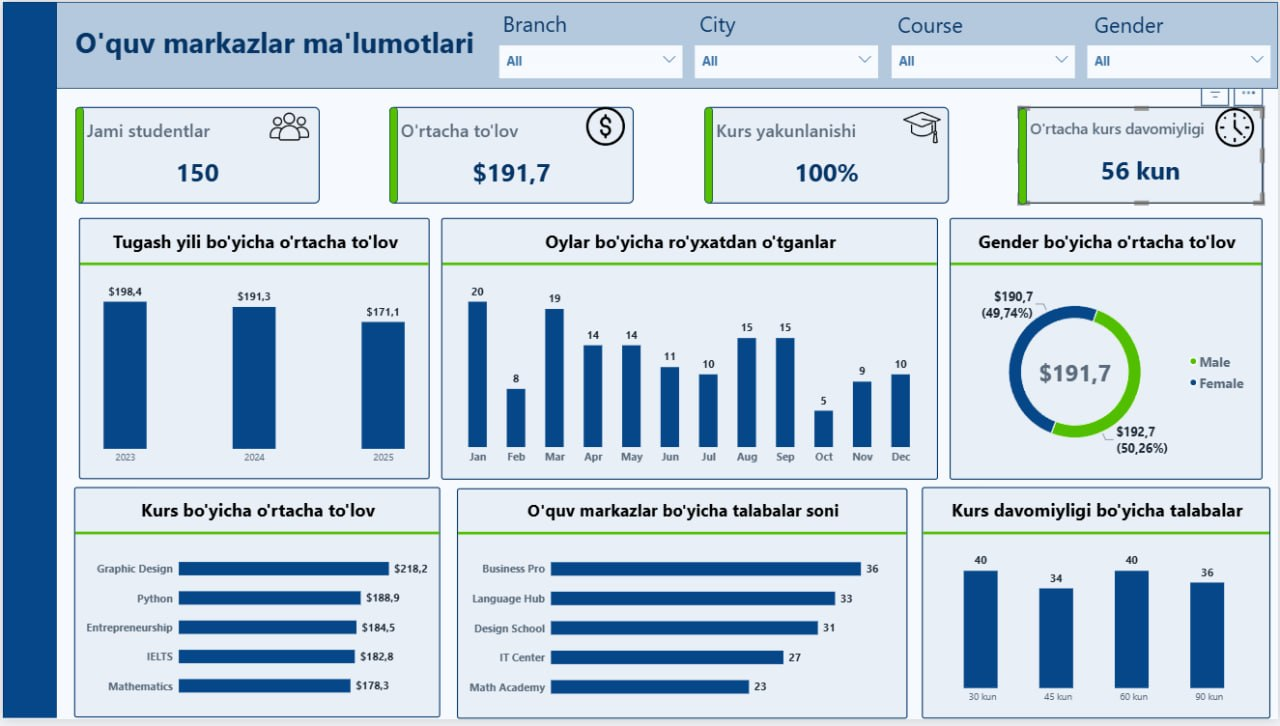

This screenshot's page, from the dashboard's own definition file:
{"tool":"powerbi","page":{"name":"Page 1","canvas":[1920,1080],"ordinal":0},"visuals":[{"type":"card","title":"Kurs yakunlanishi ","fields":{"Values":["Avg(O'quv markazlar.Completion %)"]},"box":[1055.9,158.3,368,145.4],"z":0},{"type":"card","title":"Jami studentlar","fields":{"Values":["O'quv markazlar.Students Count"]},"box":[108.6,158.3,368.1,145.4],"z":1000},{"type":"card","title":"O''rtacha to''lov","fields":{"Values":["O'quv markazlar.Avg Course Fee"]},"box":[582.2,158.3,368.1,145.4],"z":2000},{"type":"card","title":"O''rtacha kurs davomiyligi ","fields":{"Values":["Avg(O'quv markazlar.Course Days)"]},"box":[1529.5,158.3,368.1,145.4],"z":3000},{"type":"columnChart","title":"Tugash yili bo''yicha o''rtacha to''lov","fields":{"Category":["O'quv markazlar.End Year"],"Y":["O'quv markazlar.Avg Course Fee"]},"box":[115.1,326.2,528.2,393.9],"z":4000},{"type":"shape","box":[80.2,0,1840.1,130.8],"z":5000},{"type":"textbox","box":[108.6,31.3,612.9,69.9],"z":8000},{"type":"slicer","title":"Branch","fields":{"Values":["O'quv markazlar.Branch"]},"box":[747.3,65.5,276.1,49.7],"z":9000},{"type":"textbox","box":[752.8,11,136.2,55.2],"z":10000},{"type":"slicer","title":"Branch","fields":{"Values":["O'quv markazlar.City"]},"box":[1042.4,66.3,276.1,49.7],"z":11000},{"type":"slicer","title":"Branch","fields":{"Values":["O'quv markazlar.Gender"]},"box":[1632.7,65.5,276.1,49.7],"z":12000},{"type":"slicer","title":"Branch","fields":{"Values":["O'quv markazlar.Completion %"]},"box":[1337.6,65.5,276.1,49.7],"z":13000},{"type":"textbox","box":[1347.2,12.9,119.6,60.7],"z":14000},{"type":"textbox","box":[1643.6,12.9,138,60.7],"z":15000},{"type":"textbox","box":[1049.1,11,119.6,60.7],"z":16000},{"type":"shape","box":[1056.4,158.3,12.9,145.4],"z":17000},{"type":"shape","box":[1529.5,160.1,12.9,145.4],"z":18000},{"type":"shape","box":[108.6,158.3,12.9,145.4],"z":19000},{"type":"shape","box":[581.6,158.3,12.9,145.4],"z":20000},{"type":"shape","box":[0,0,81,1078.5],"z":21000},{"type":"image","box":[388.3,158.3,84.7,58.9],"z":22000},{"type":"image","box":[865,158.3,84,58],"z":23000},{"type":"image","box":[1341.7,160.1,84,58],"z":24000},{"type":"image","box":[1812.9,160.1,84,58],"z":25000},{"type":"donutChart","title":"Gender bo''yicha o''rtacha to''lov","fields":{"Category":["O'quv markazlar.Gender"],"Y":["O'quv markazlar.Avg Course Fee"]},"box":[1425,326.2,470.9,394.2],"z":25001},{"type":"clusteredColumnChart","title":"Oylar bo''yicha ro''yxatdan o''tganlar","fields":{"Category":["O'quv markazlar.Month Name"],"Y":["O'quv markazlar.Students Count"]},"box":[659.3,326.2,748.3,394.2],"z":25002},{"type":"clusteredBarChart","title":"Kurs bo''yicha o''rtacha to''lov","fields":{"Category":["O'quv markazlar.Course"],"Y":["O'quv markazlar.Avg Course Fee"]},"box":[108.1,730.8,551.2,347.1],"z":25003},{"type":"clusteredBarChart","title":"O''quv markazlar bo''yicha talabalar soni","fields":{"Category":["O'quv markazlar.Branch"],"Y":["CountNonNull(O'quv markazlar.Student_ID)"]},"box":[683.7,732.6,678.5,347.1],"z":25004},{"type":"columnChart","title":"Kurs davomiyligi bo''yicha talabalar","fields":{"Category":["O'quv markazlar.Course Days"],"Y":["O'quv markazlar.Students Count"]},"box":[1383.1,730.8,525,348.8],"z":25005}]}

Visuals, with their boxes in screenshot pixels (x1, y1, x2, y2), scaled from the page's 1920x1080 canvas onto the 1280x726 screenshot:
"Kurs yakunlanishi " card: bbox(704, 106, 949, 204)
"Jami studentlar" card: bbox(72, 106, 318, 204)
"O''rtacha to''lov" card: bbox(388, 106, 634, 204)
"O''rtacha kurs davomiyligi " card: bbox(1020, 106, 1265, 204)
"Tugash yili bo''yicha o''rtacha to''lov" columnChart: bbox(77, 219, 429, 484)
shape: bbox(53, 0, 1279, 88)
textbox: bbox(72, 21, 481, 68)
"Branch" slicer: bbox(498, 44, 682, 77)
textbox: bbox(502, 7, 593, 45)
"Branch" slicer: bbox(695, 45, 879, 78)
"Branch" slicer: bbox(1088, 44, 1273, 77)
"Branch" slicer: bbox(892, 44, 1076, 77)
textbox: bbox(898, 9, 978, 49)
textbox: bbox(1096, 9, 1188, 49)
textbox: bbox(699, 7, 779, 48)
shape: bbox(704, 106, 713, 204)
shape: bbox(1020, 108, 1028, 205)
shape: bbox(72, 106, 81, 204)
shape: bbox(388, 106, 396, 204)
shape: bbox(0, 0, 54, 725)
image: bbox(259, 106, 315, 146)
image: bbox(577, 106, 633, 145)
image: bbox(894, 108, 950, 147)
image: bbox(1209, 108, 1265, 147)
"Gender bo''yicha o''rtacha to''lov" donutChart: bbox(950, 219, 1264, 484)
"Oylar bo''yicha ro''yxatdan o''tganlar" clusteredColumnChart: bbox(440, 219, 938, 484)
"Kurs bo''yicha o''rtacha to''lov" clusteredBarChart: bbox(72, 491, 440, 725)
"O''quv markazlar bo''yicha talabalar soni" clusteredBarChart: bbox(456, 492, 908, 725)
"Kurs davomiyligi bo''yicha talabalar" columnChart: bbox(922, 491, 1272, 725)
